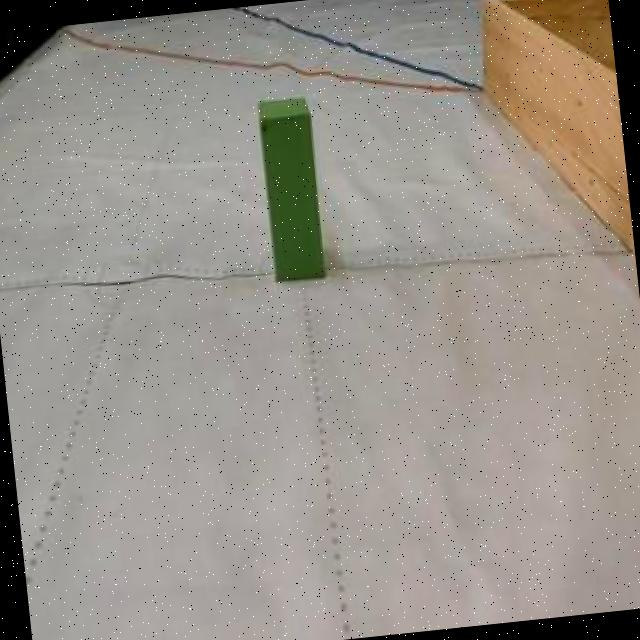greenbox: (256, 92, 330, 281)
